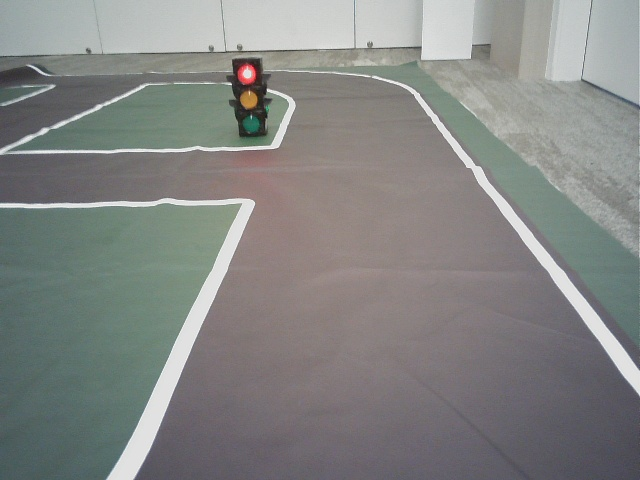red: (233, 60, 265, 134)
